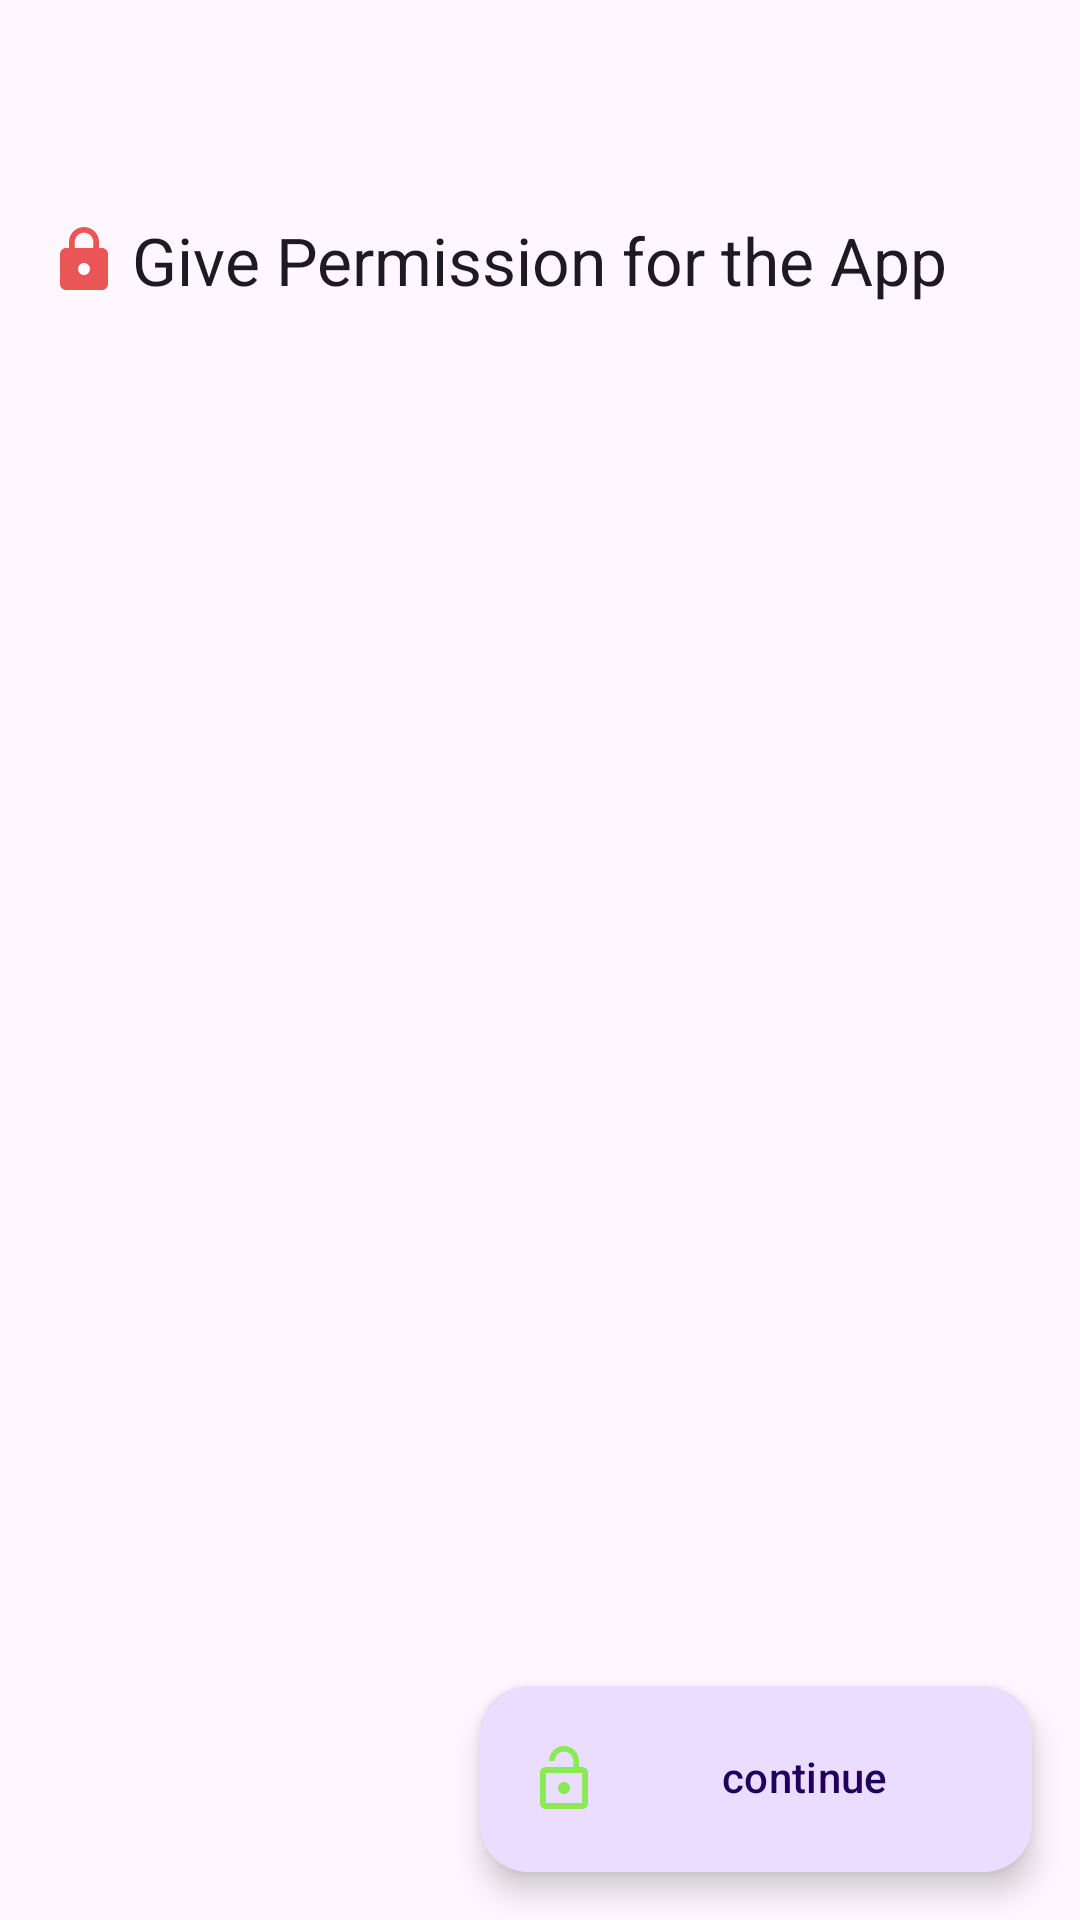

Where icons sit on this 1080 × 1920 app screen, as (x1, y1, x2, y2):
lock: (60, 227, 108, 290)
